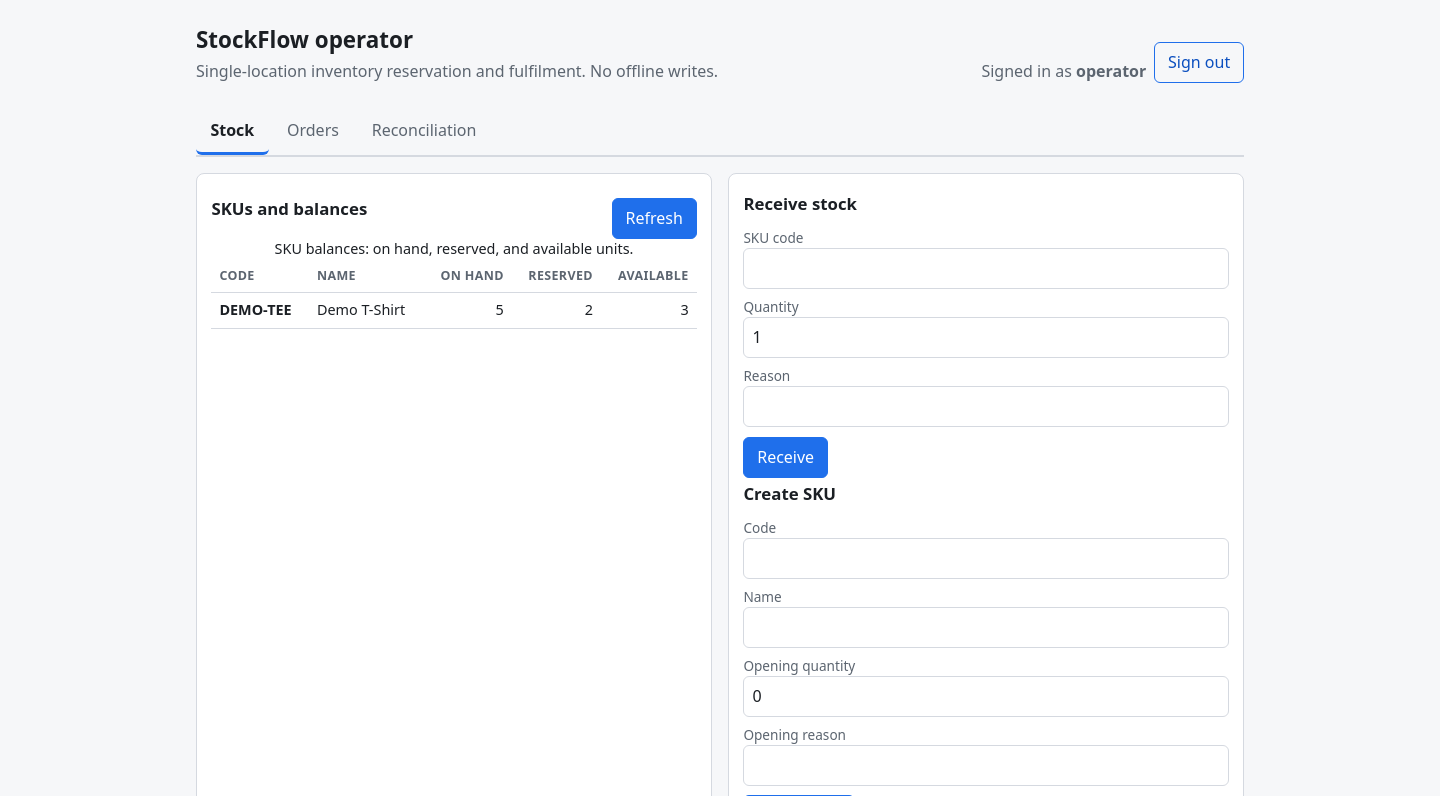
Scenario: App › moves between the stock, order, and reconciliation views with tabs
The width and height of the screenshot is (1440, 796).
Expected: the column heading "DEMO-TEE" is shown, [211, 293, 309, 329]
Click the tab "Orders" at [313, 132], box [273, 109, 353, 155]
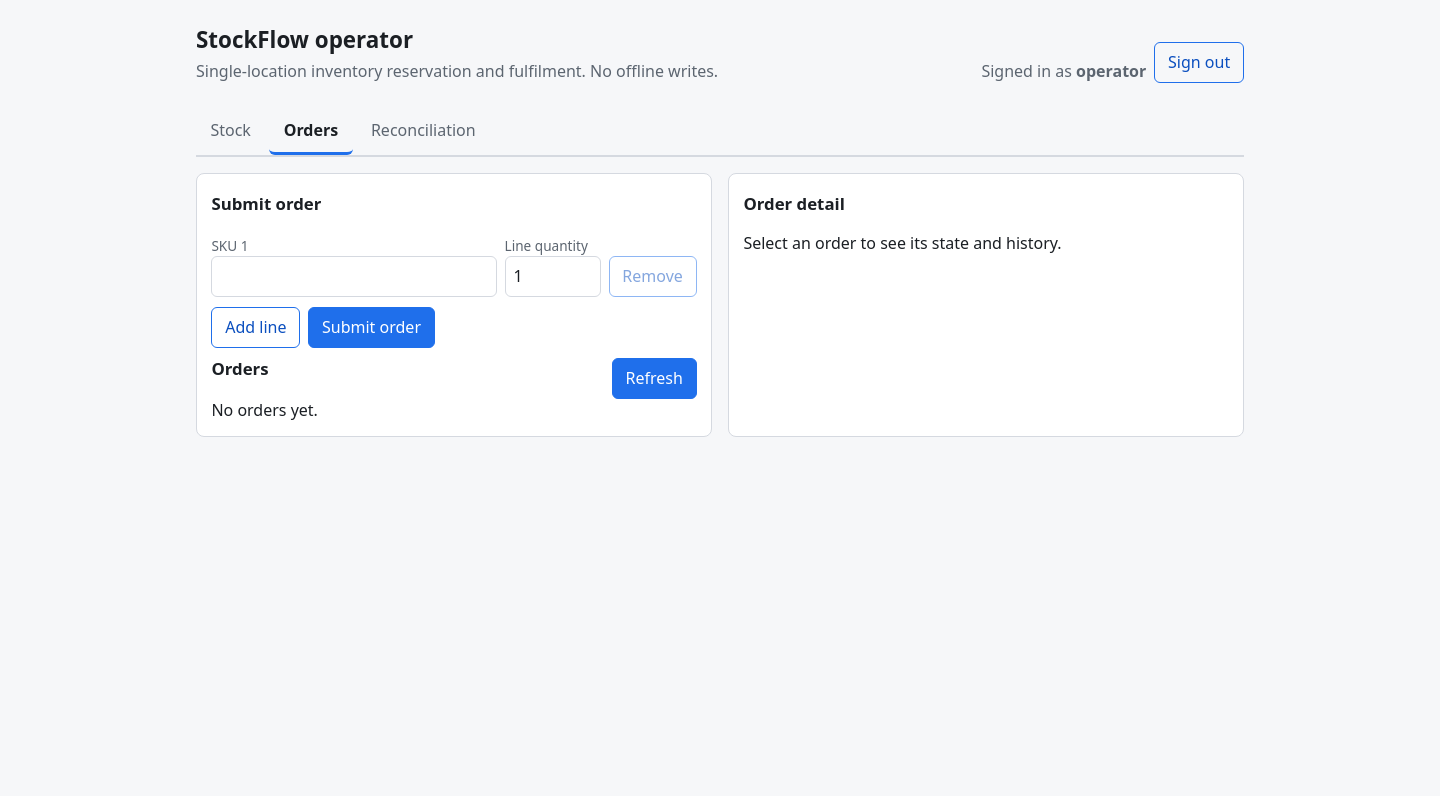
Result: the heading "Submit order" is shown at [211, 192, 321, 215]
Click the tab "Reconciliation" at [423, 132], box [356, 109, 490, 155]
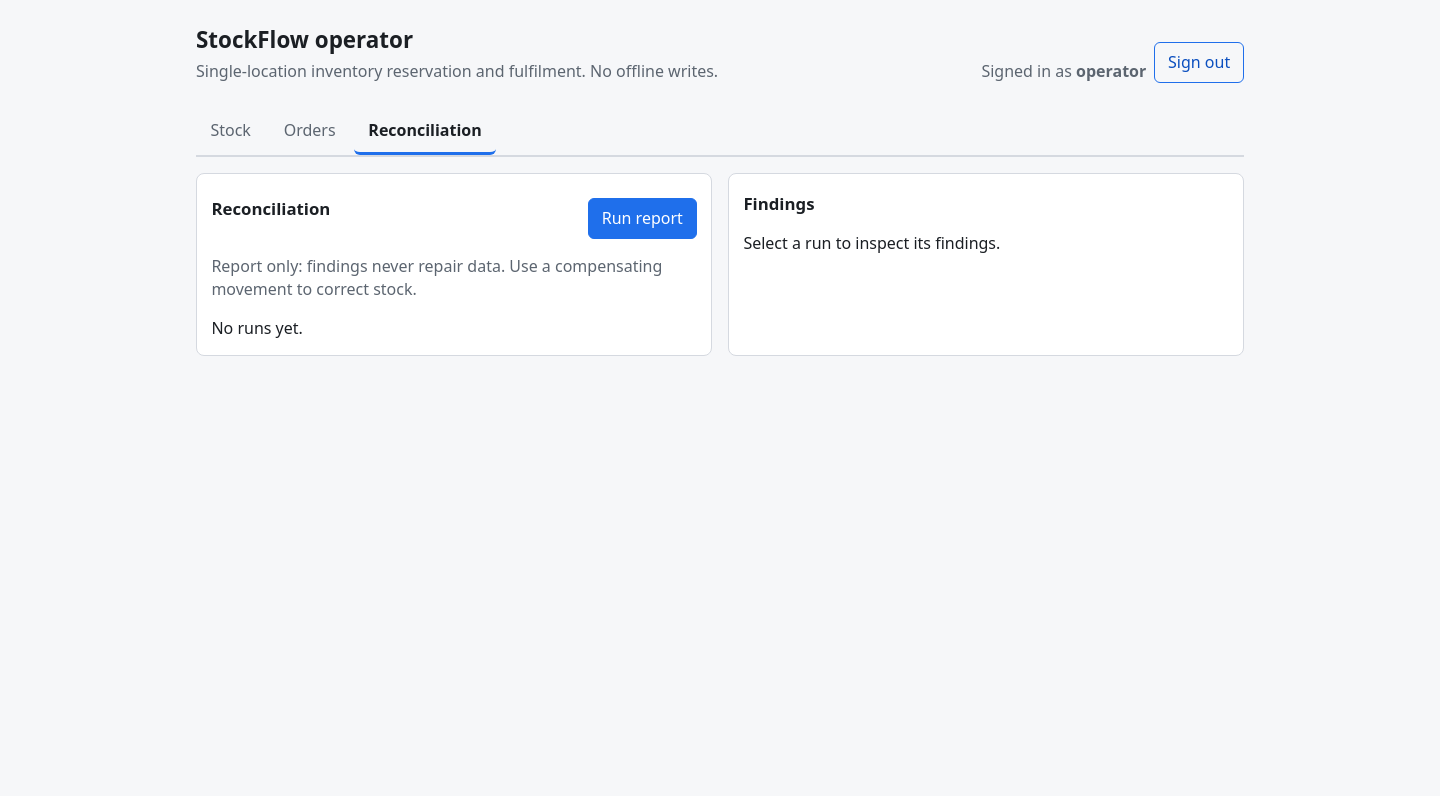
Result: the button "Run report" is shown at [588, 198, 697, 239]
